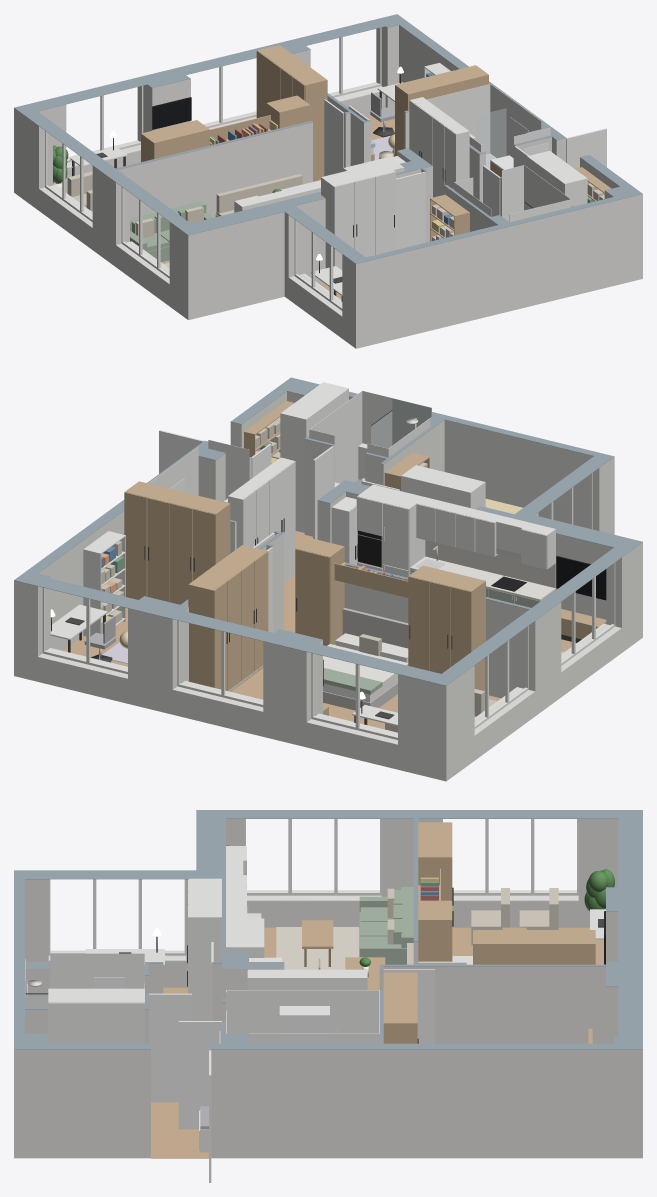
3 views of the same model, one above another, from view 1: azimuth 30°, elevation 25°; view 2: azimuth 150°, elevation 25°; view 3: azimuth 270°, elevation 25° (orthographic). The views are drawn at different scales.
Visible parts, largest first — view 1: wall, white, wallcap, oak, tile_wall, white_gloss, fabric_sand, glass, fabric_green, screen, metal_dark, mirror (+1 smaller); view 2: wall, oak, white, wallcap, tile_wall, white_gloss, oak_floor, upholstery, backsplash, linen, fabric_sand, worktop (+6 smaller); view 3: wall, wallcap, white, oak, white_gloss, tile_wall, oak_floor, fabric_green, fabric_sand, rug_sand, leaf.
Part boxes in pixels (bbox=[...]): wall: bbox=[14, 25, 642, 348]; white: bbox=[45, 27, 587, 310]; wallcap: bbox=[14, 14, 642, 263]; oak: bbox=[141, 45, 610, 241]; tile_wall: bbox=[426, 84, 571, 222]; white_gloss: bbox=[324, 99, 606, 249]; fabric_sand: bbox=[67, 151, 604, 240]; glass: bbox=[476, 108, 531, 209]; fabric_green: bbox=[130, 201, 213, 262]; screen: bbox=[153, 98, 191, 129]; metal_dark: bbox=[72, 73, 532, 301]; mirror: bbox=[510, 117, 548, 155]; wall: bbox=[14, 388, 642, 781]; oak: bbox=[124, 401, 606, 715]; white: bbox=[42, 382, 615, 739]; wallcap: bbox=[14, 377, 642, 685]; tile_wall: bbox=[149, 390, 431, 502]; white_gloss: bbox=[159, 430, 399, 632]; oak_floor: bbox=[63, 531, 576, 729]; upholstery: bbox=[323, 608, 408, 710]; backsplash: bbox=[425, 540, 555, 588]; linen: bbox=[323, 633, 408, 702]; fabric_sand: bbox=[101, 417, 497, 732]; worktop: bbox=[410, 556, 555, 601]; wall: bbox=[14, 819, 642, 1158]; wallcap: bbox=[14, 810, 642, 1049]; white: bbox=[48, 819, 605, 1152]; oak: bbox=[247, 822, 595, 1043]; white_gloss: bbox=[149, 942, 466, 1182]; tile_wall: bbox=[25, 953, 379, 1043]; oak_floor: bbox=[151, 927, 604, 1158]; fabric_green: bbox=[359, 887, 413, 964]; fabric_sand: bbox=[387, 888, 558, 964]; rug_sand: bbox=[276, 927, 358, 969]; leaf: bbox=[359, 869, 614, 966].
Size of the model in its own units: 10.98 by 2.5 by 11.03.
